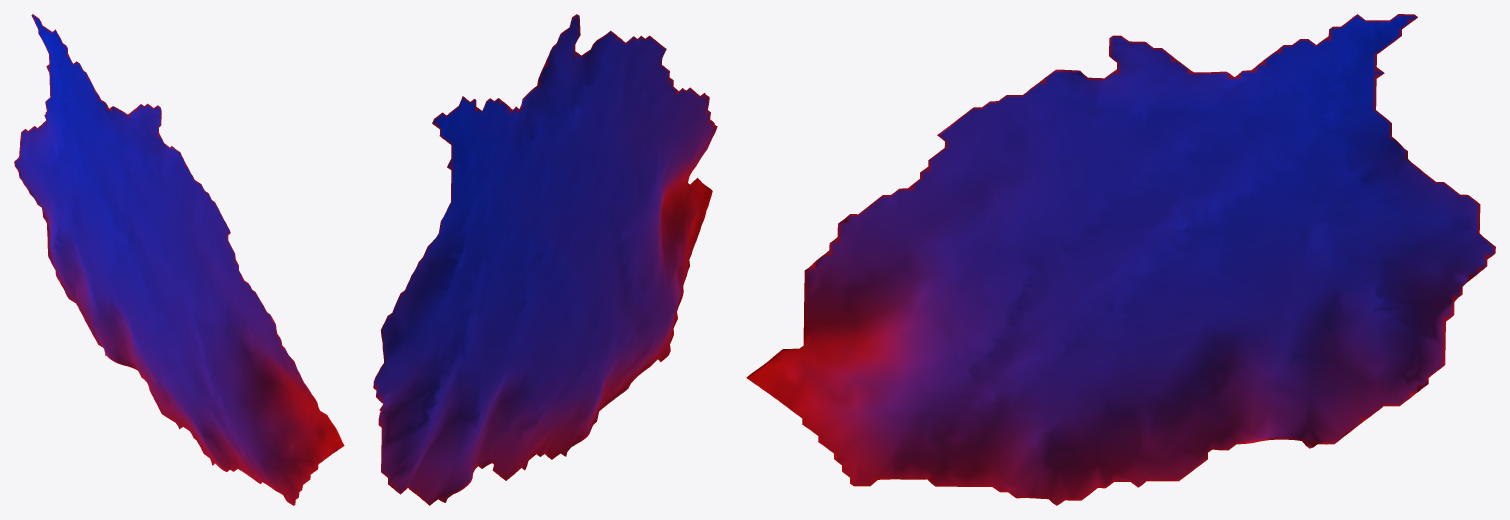
The model's file is salas.gltf.
3 views of the same model, side by side, from view 1: azimuth 30°, elevation 25°; view 2: azimuth 150°, elevation 25°; view 3: azimuth 270°, elevation 25° (orthographic). The views are drawn at different scales.
Size of the model in its own units: 302 by 1951 by 2842.
Materials: 1 (1 with a texture image).
